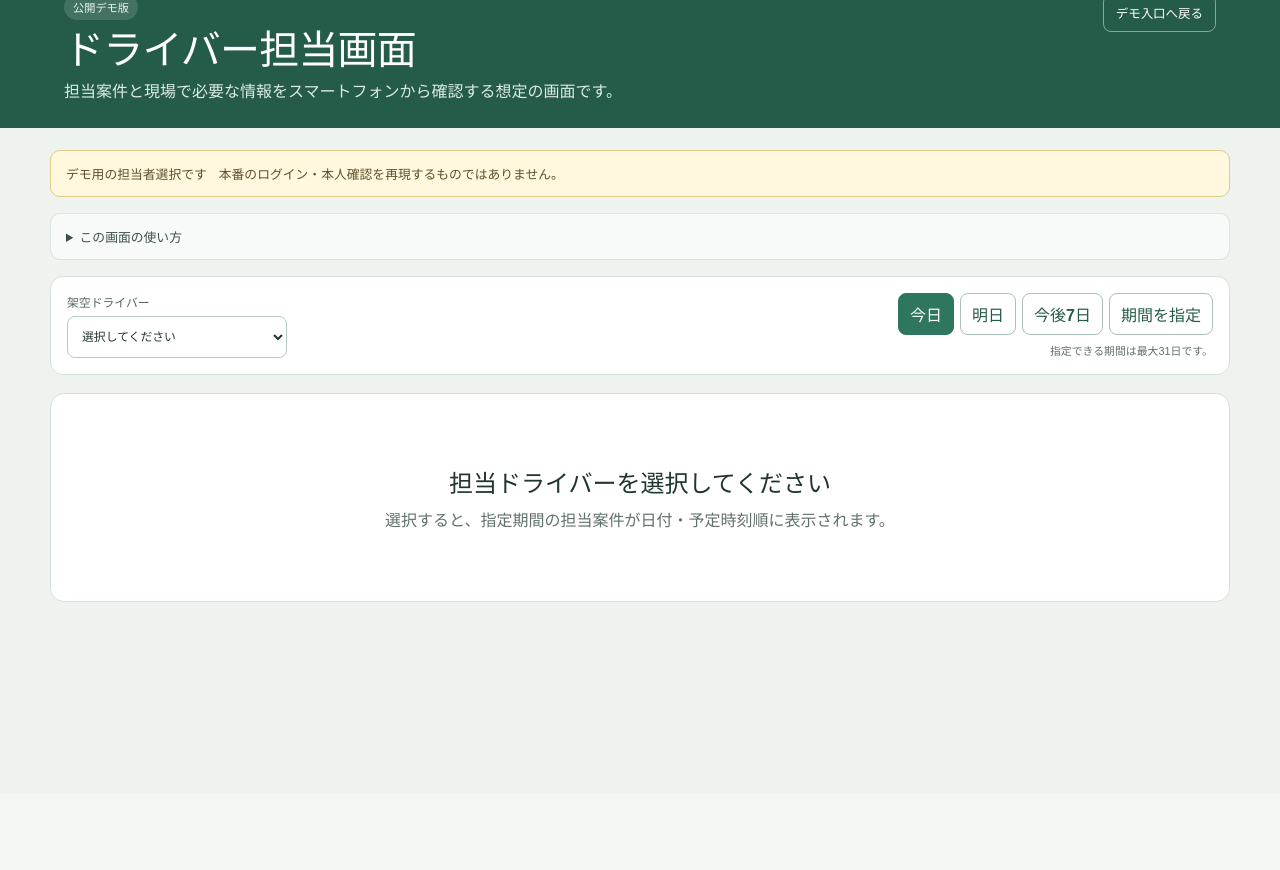
Test case: ドライバー画面 › 担当案件から依頼時申告とドライバー向け指示を確認できる
Select "架空 次郎" in the dropdown labelled "架空ドライバー" at (177, 337), box 67,316 -> 287,358
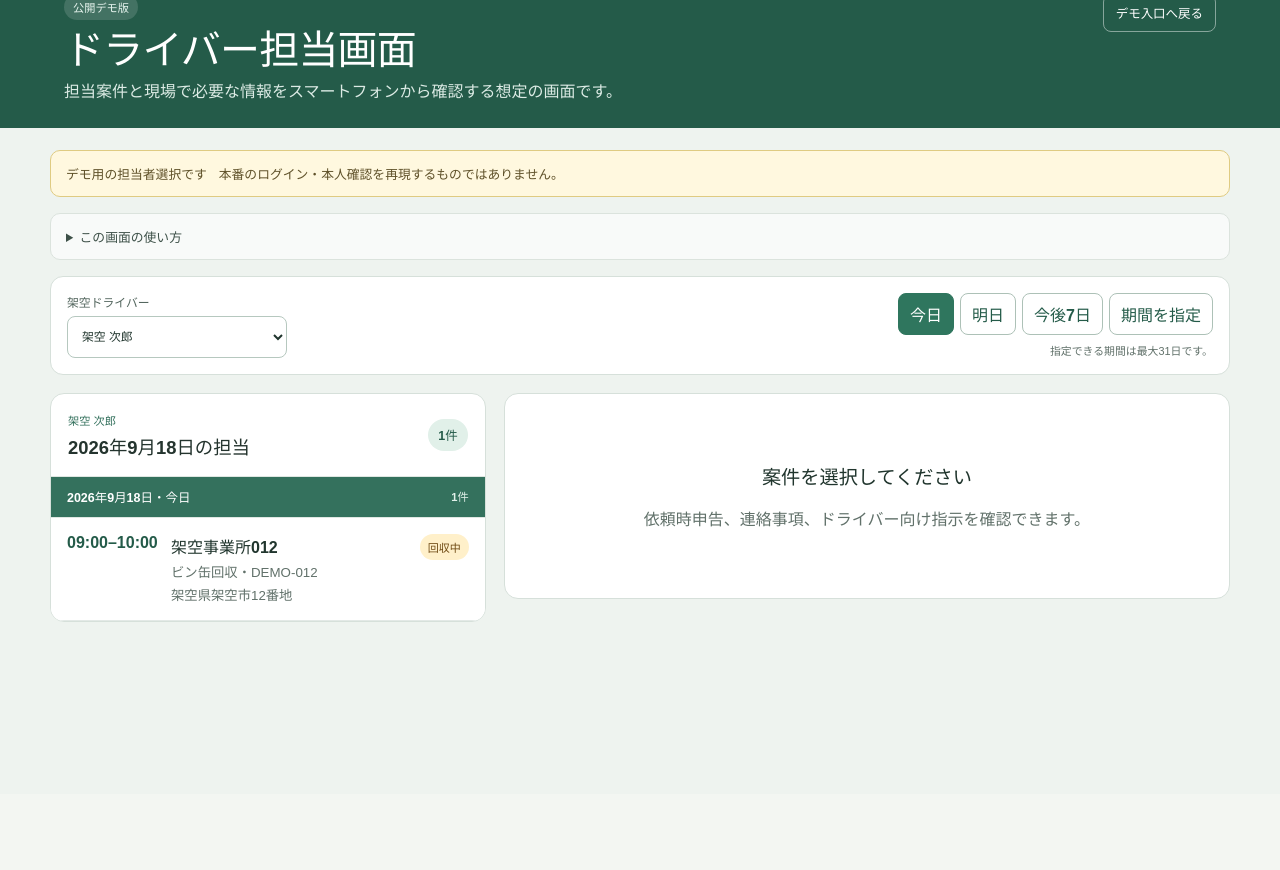
Click the button "09:00–10:00 架空事業所012 ビン缶回収・DEMO-012 架空県架空市12番地 回収中" at (268, 570), box 51,518 -> 485,621
(page scrolled)
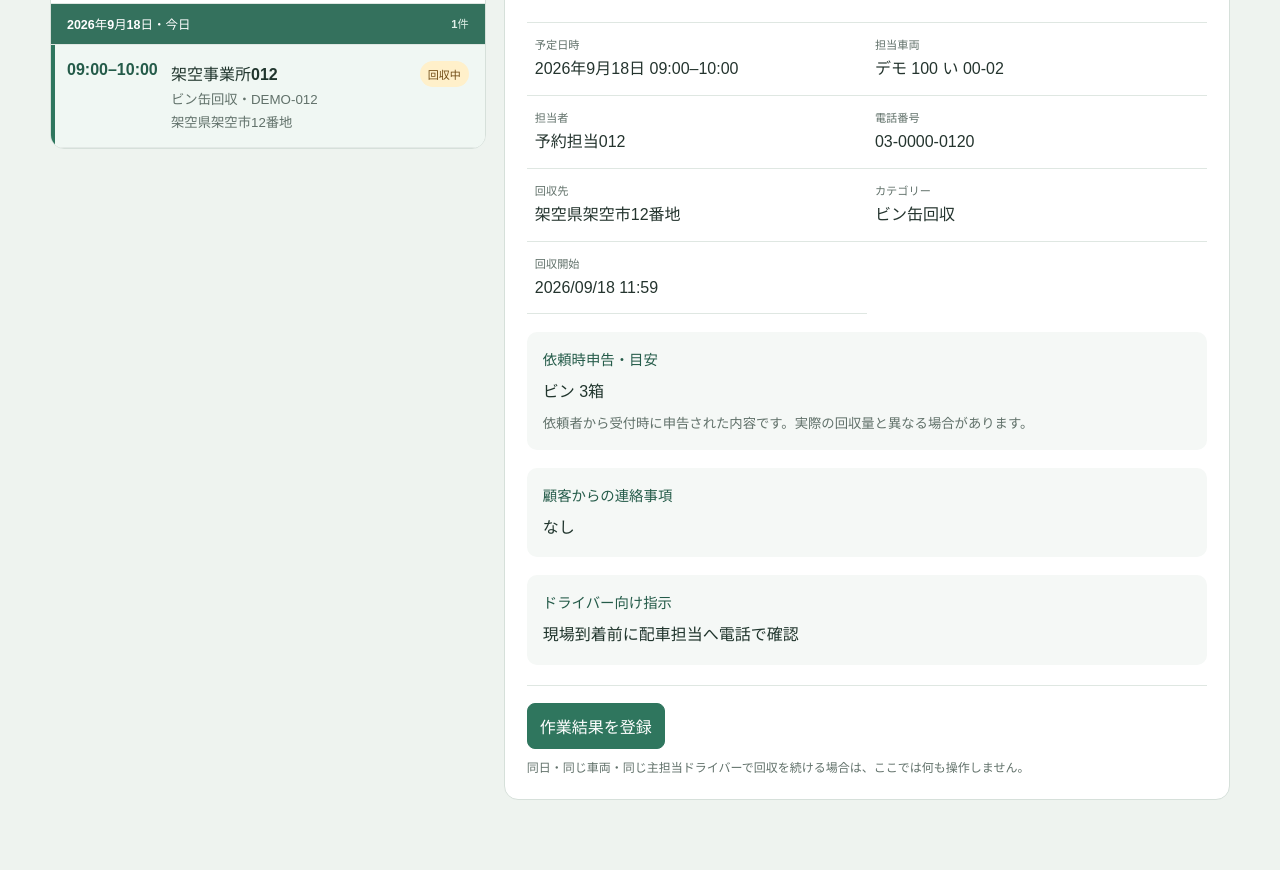
Expected: the heading "依頼時申告・目安" is shown, 543,352 -> 658,368
Expected: the text "現場到着前に配車担当へ電話で確認" is shown, 543,626 -> 799,643
